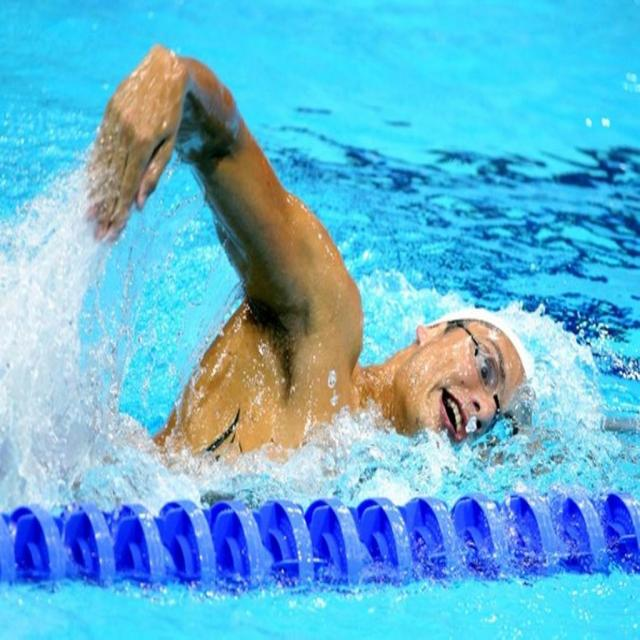nomask: (412, 332, 528, 457)
